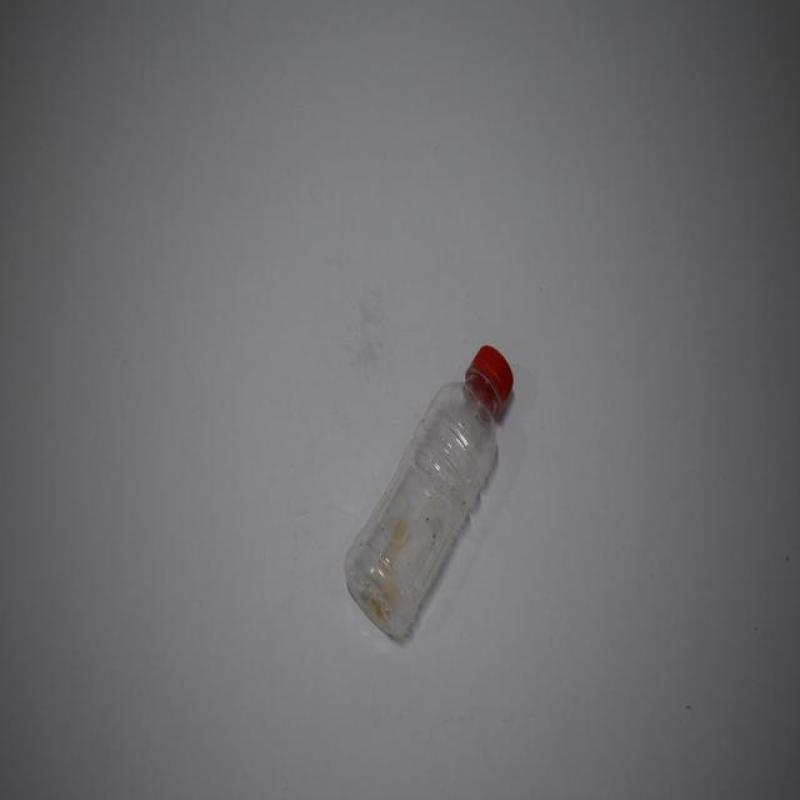botella: (344, 344, 514, 644)
